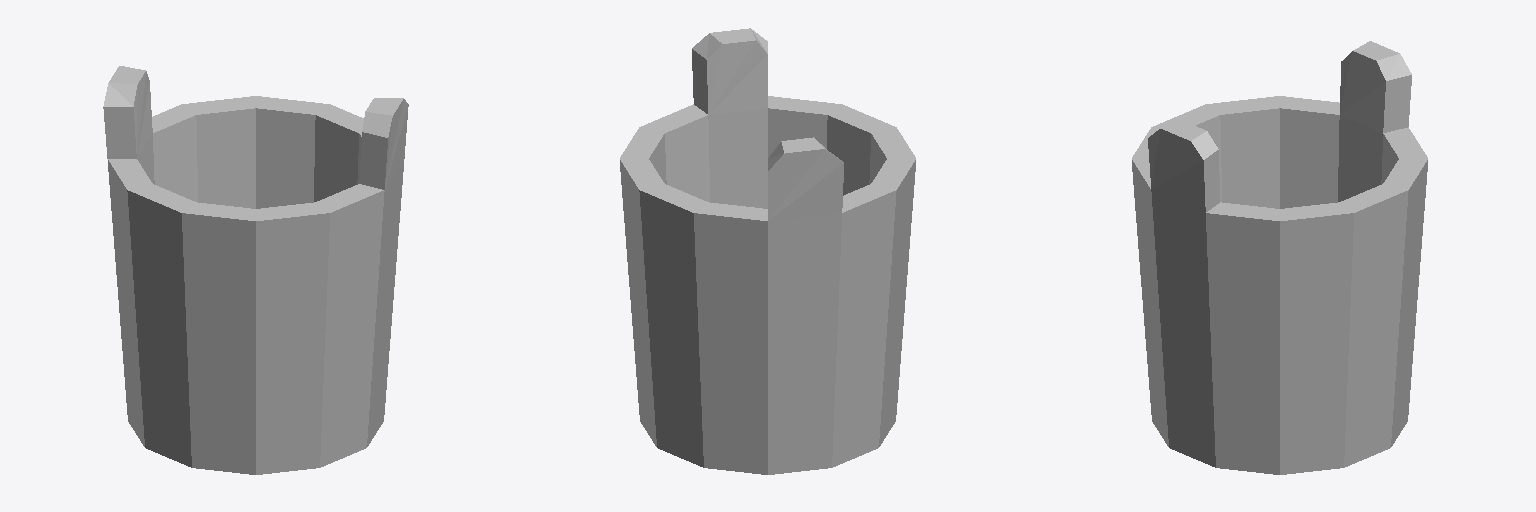
The model's file is bucket.obj.
3 renders of one model, left to right at view 1: azimuth 30°, elevation 25°; view 2: azimuth 150°, elevation 25°; view 3: azimuth 270°, elevation 25°, orthographic.
Visible parts, largest first — view 1: Cylinder; view 2: Cylinder; view 3: Cylinder.
Part boxes in pixels (left/top/right/bottom): Cylinder: left=103, top=66, right=408, bottom=474; Cylinder: left=620, top=28, right=915, bottom=474; Cylinder: left=1132, top=41, right=1427, bottom=474.
Size of the model in its own units: 0.5488 by 0.6732 by 0.5488.